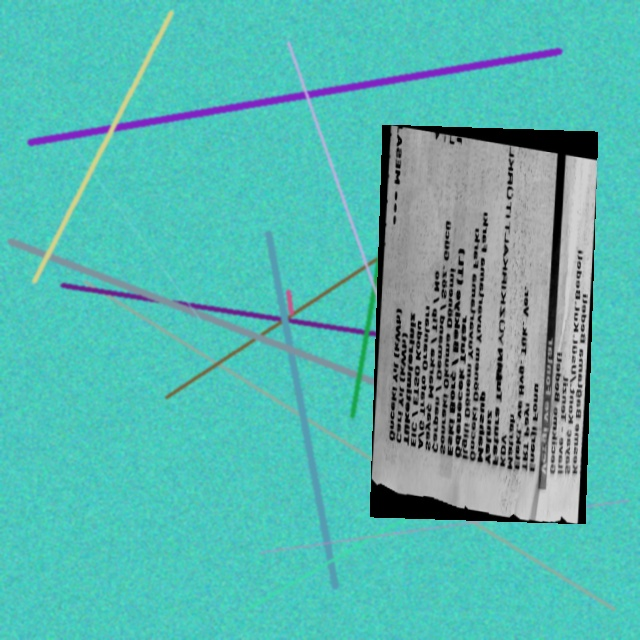electricity-bill: (370, 125, 598, 523)
